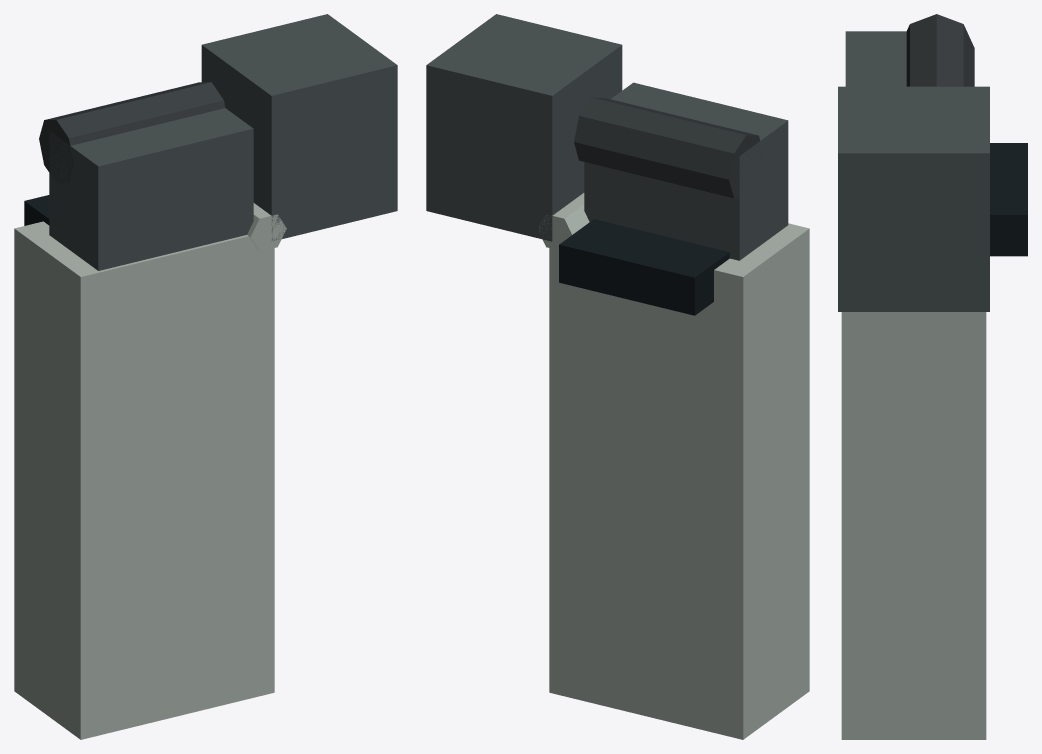
File: blender_igniter_2.glb
The picture shows the model from 3 angles, left to right: view 1: azimuth 30°, elevation 25°; view 2: azimuth 150°, elevation 25°; view 3: azimuth 270°, elevation 25°; orthographic projection. The views are drawn at different scales.
Visible parts, largest first — view 1: blender_igniter_2; view 2: blender_igniter_2; view 3: blender_igniter_2.
Boxes of the visible parts, box(x1,y1,x2,y2) form: blender_igniter_2: box(14, 14, 397, 739); blender_igniter_2: box(426, 14, 809, 739); blender_igniter_2: box(838, 14, 1027, 739).
Size of the model in its own units: 0.052 by 0.0945 by 0.025.
1 material, 1 textured.
